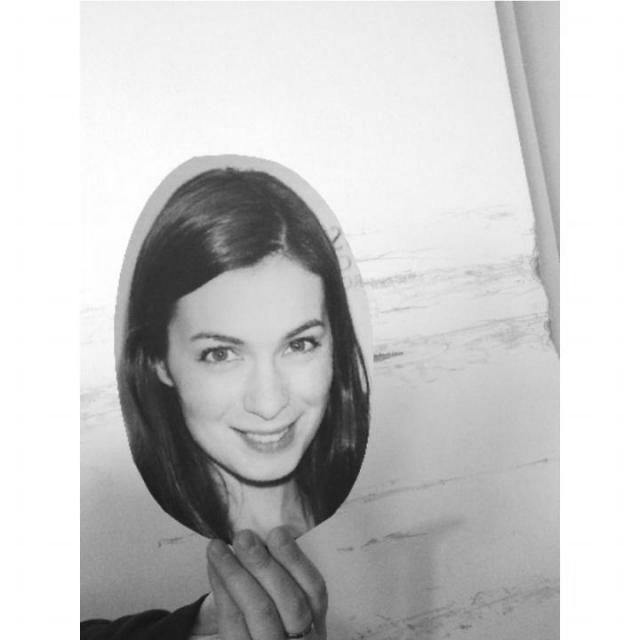fake: (110, 146, 379, 554)
